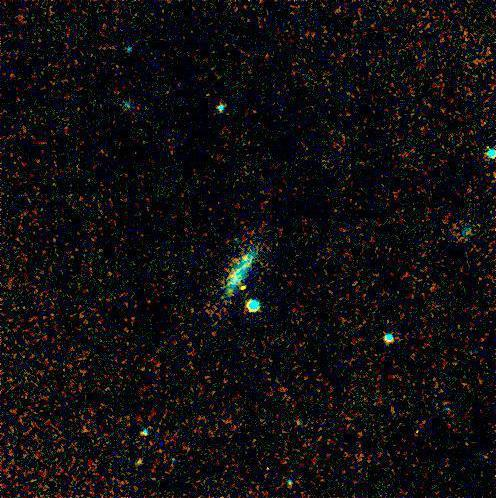star: (226, 275, 256, 305)
